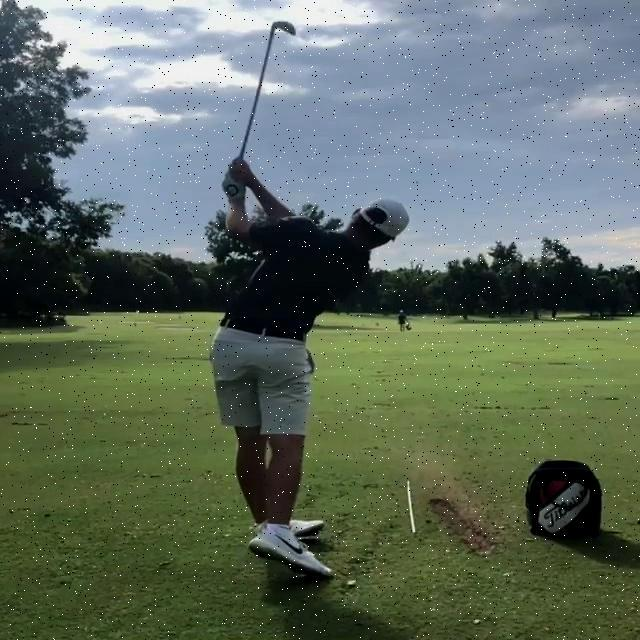golf club-handle: (222, 20, 295, 200)
golf club-head: (272, 19, 295, 35)
